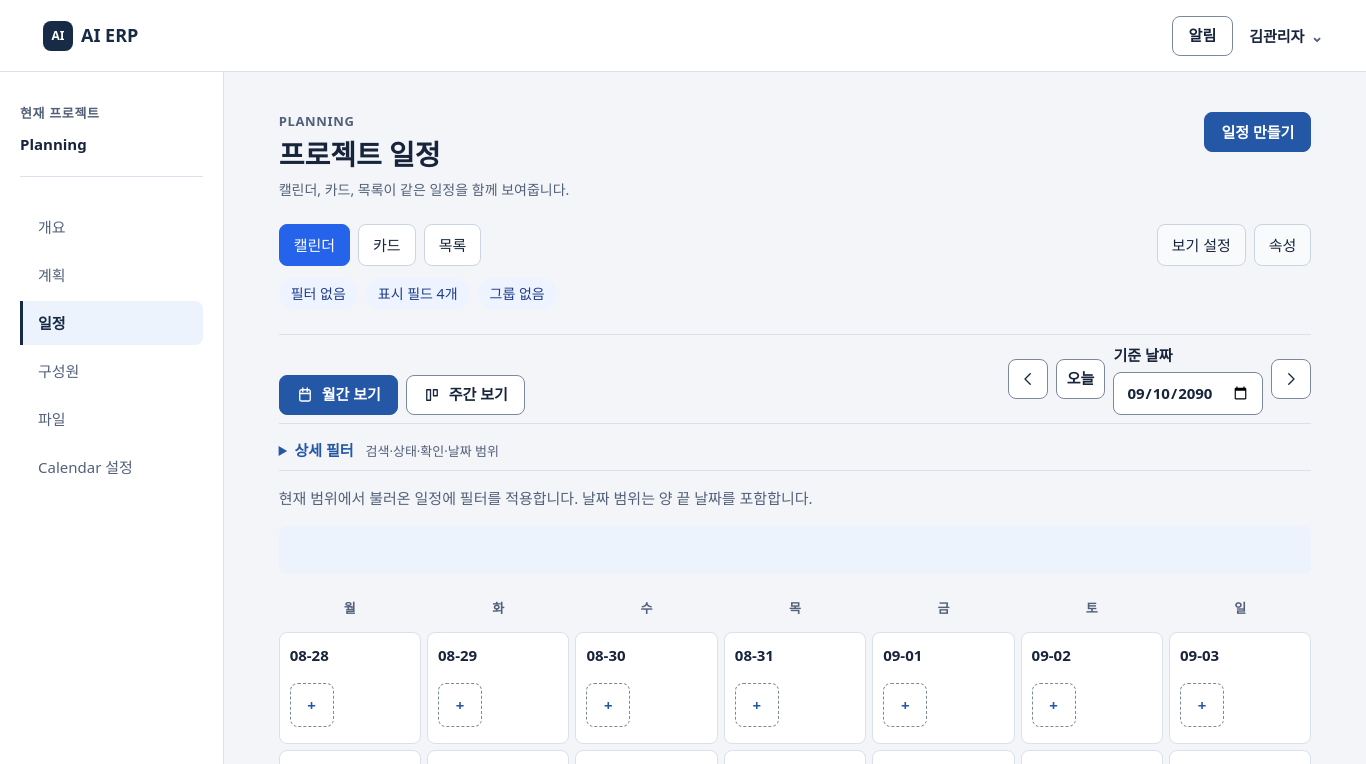
Test: schedule list switches to one primary representation with direct full edit and time change
This screenshot has width=1366, height=764.
Click the button with aria-label "목록 보기" at (452, 245), box [424,224,481,266]
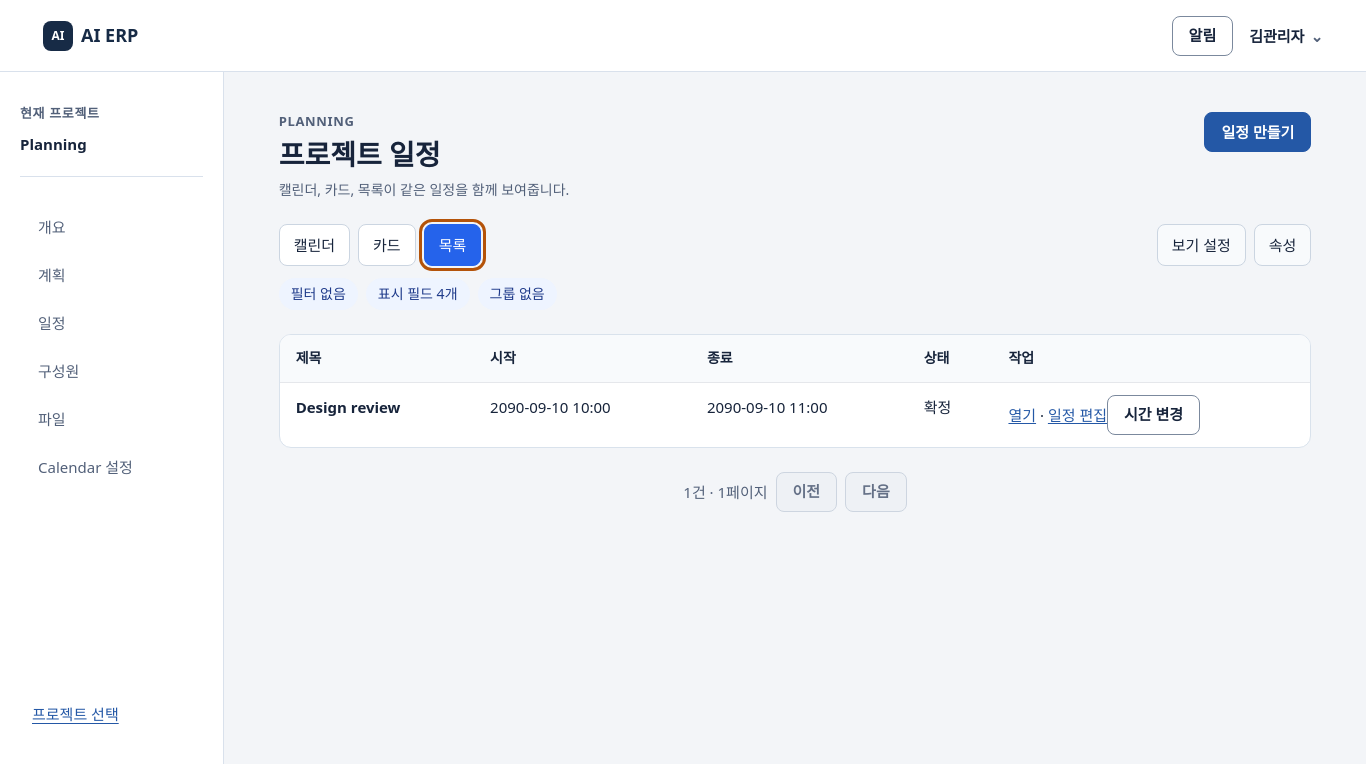
Now the button with aria-label "시간 변경: Design review" is enabled, box [1107,395,1200,435]
